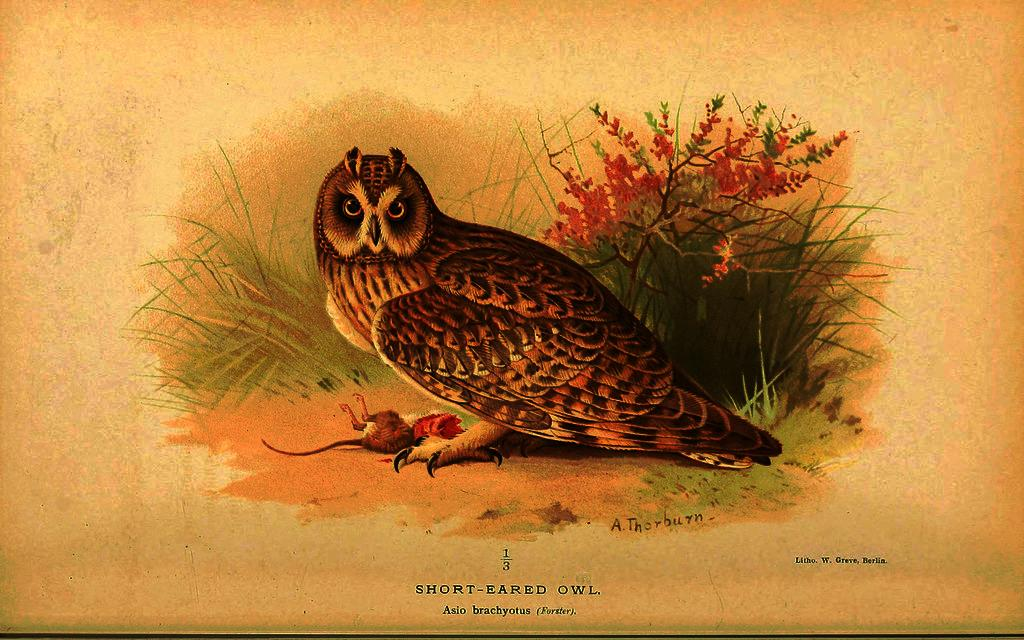Owl: (310, 146, 780, 482)
